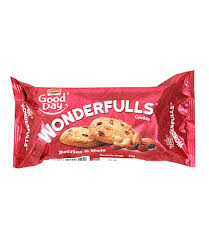gooday-small: (10, 83, 192, 165)
